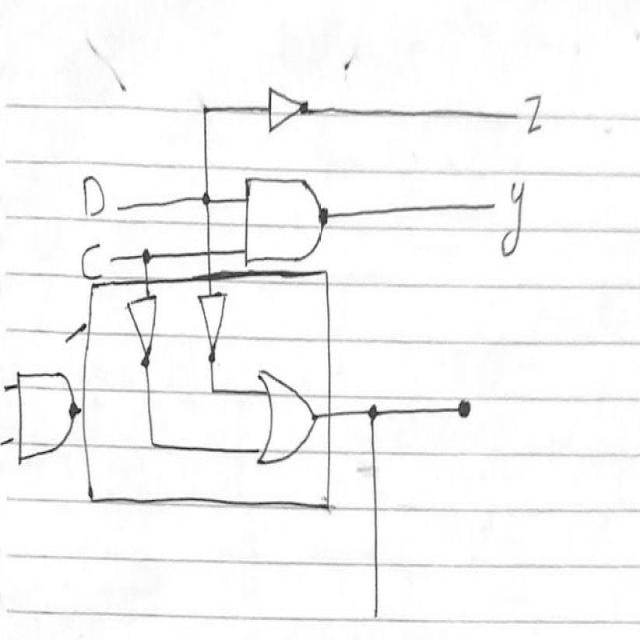NAND: (237, 168, 337, 271), (9, 359, 82, 470)
NOT: (122, 294, 167, 370), (197, 288, 237, 369), (263, 78, 316, 138)
OR: (250, 358, 321, 473)
